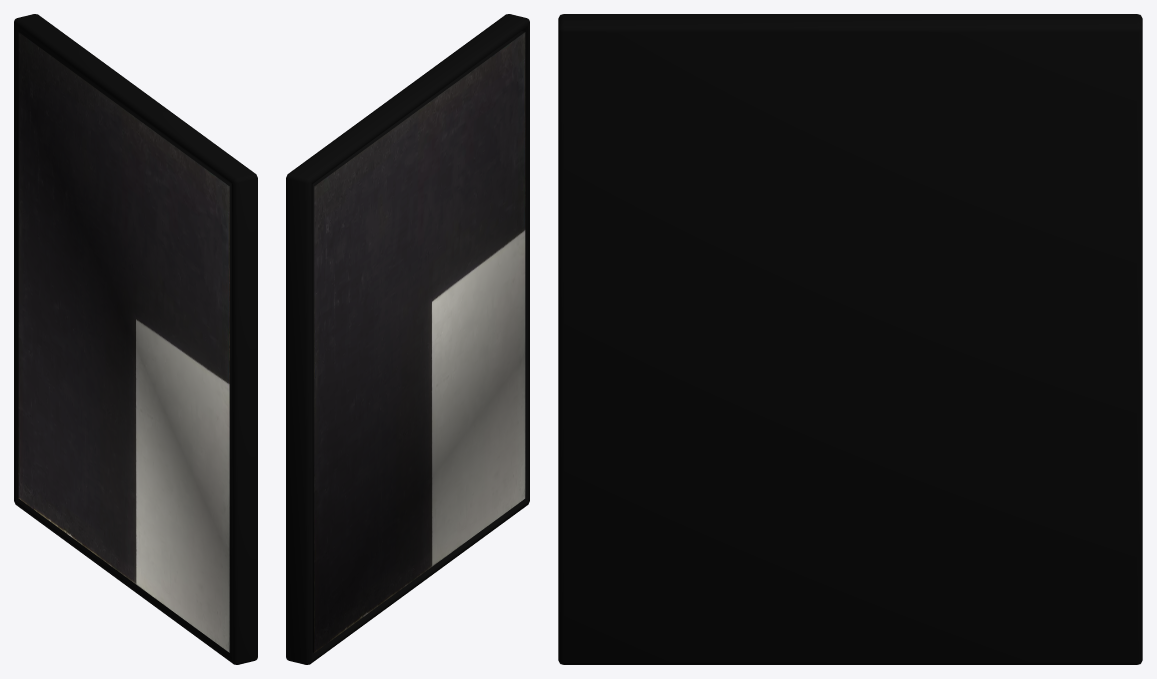
Rendered from Artwork_Hallway.fbx.
The picture shows the model from 3 angles, left to right: view 1: azimuth 30°, elevation 25°; view 2: azimuth 150°, elevation 25°; view 3: azimuth 270°, elevation 25°; orthographic projection. The views are drawn at different scales.
Parts seen in each view (by area): view 1: Artwork_Hallway; view 2: Artwork_Hallway; view 3: Artwork_Hallway.
Boxes of the visible parts, x1,y1,x2,y2 form: Artwork_Hallway: [14, 14, 257, 664]; Artwork_Hallway: [286, 14, 529, 664]; Artwork_Hallway: [558, 14, 1142, 664].
Bounding box in the file's own units: 0.5094 × 8.03 × 9.69.
